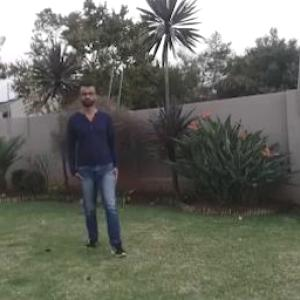follow: (74, 86, 119, 239)
